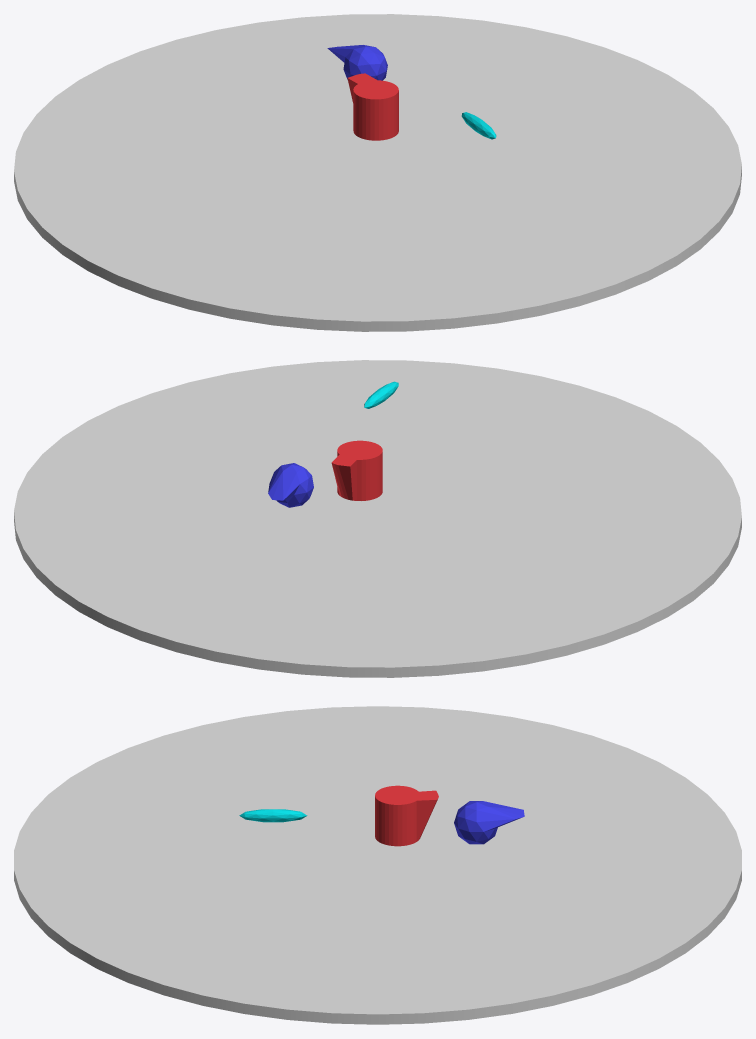
The model's file is World.gltf.
3 renders of one model, top to bottom at view 1: azimuth 30°, elevation 25°; view 2: azimuth 150°, elevation 25°; view 3: azimuth 270°, elevation 25°, orthographic.
Parts seen in each view (by area): view 1: FloorRing5, FloorRing4, FloorRIng3, FloorRing2, FloorRing1, Cylinder, Icosphere, FloorInner; view 2: FloorRing5, FloorRing4, FloorRIng3, FloorRing2, FloorRing1, Cylinder, Icosphere, FloorInner; view 3: FloorRing5, FloorRing4, FloorRIng3, FloorRing2, FloorRing1, Cylinder, Icosphere, Icosphere.001, FloorInner.
Boxes of the visible parts, <box> form: FloorRing5: <box>14,14,741,331</box>; FloorRing4: <box>82,43,673,292</box>; FloorRIng3: <box>150,71,605,263</box>; FloorRing2: <box>218,101,537,234</box>; FloorRing1: <box>287,130,468,206</box>; Cylinder: <box>347,73,398,140</box>; Icosphere: <box>327,45,387,80</box>; FloorInner: <box>355,158,400,177</box>; FloorRing5: <box>14,360,741,677</box>; FloorRing4: <box>82,389,673,638</box>; FloorRIng3: <box>150,417,605,609</box>; FloorRing2: <box>218,446,537,580</box>; FloorRing1: <box>287,475,468,552</box>; Cylinder: <box>331,440,382,500</box>; Icosphere: <box>268,463,313,507</box>; FloorInner: <box>355,504,400,523</box>; FloorRing5: <box>14,706,741,1024</box>; FloorRing4: <box>82,735,673,985</box>; FloorRIng3: <box>150,764,605,956</box>; FloorRing2: <box>218,793,537,927</box>; FloorRing1: <box>287,822,468,898</box>; Cylinder: <box>375,785,438,846</box>; Icosphere: <box>454,801,524,844</box>; Icosphere.001: <box>239,809,307,822</box>; FloorInner: <box>355,850,400,869</box>.
Bounding box in the file's own units: 32 × 4.19 × 31.94.
